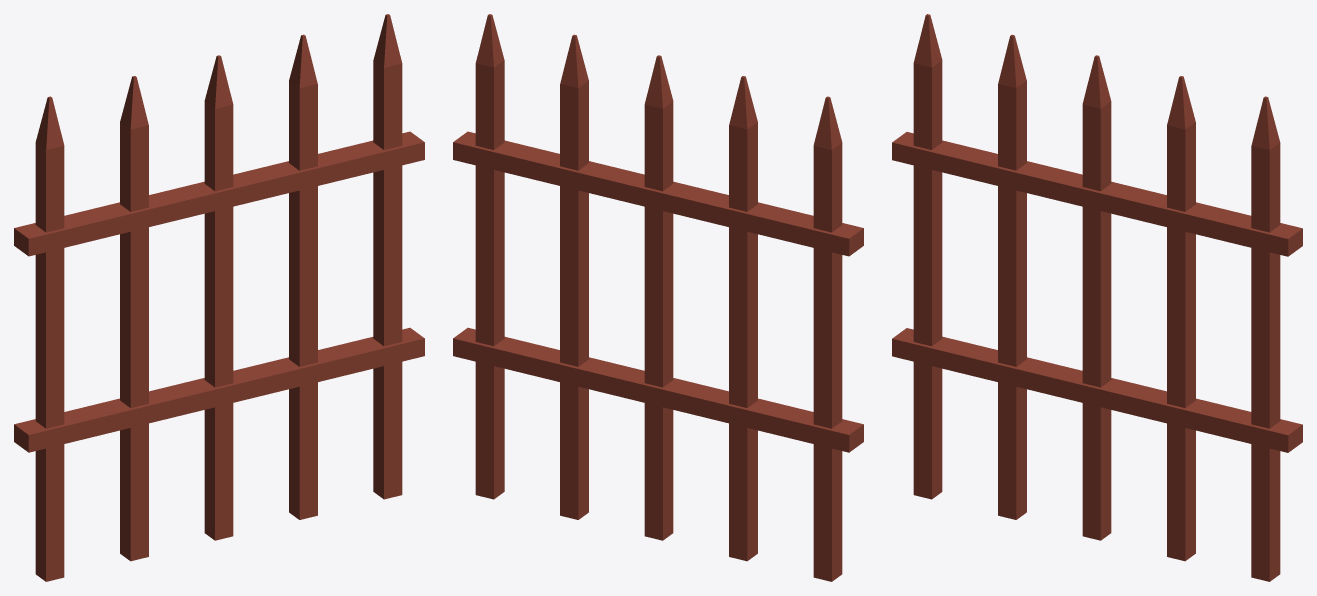
Rendered from fencelvl1.fbx.
3 renders of one model, left to right at view 1: azimuth 30°, elevation 25°; view 2: azimuth 150°, elevation 25°; view 3: azimuth 330°, elevation 25°, orthographic.
Visible parts, largest first — view 1: Cube.005, Cube.006; view 2: Cube.005, Cube.006; view 3: Cube.005, Cube.006.
Part boxes in pixels (x1,y1,x2,y2): Cube.005: (35, 14, 402, 581); Cube.006: (14, 131, 424, 452); Cube.005: (475, 14, 842, 581); Cube.006: (453, 131, 863, 452); Cube.005: (913, 14, 1280, 581); Cube.006: (892, 132, 1302, 452).
Bounding box in the file's own units: 199 × 230 × 12.85.
